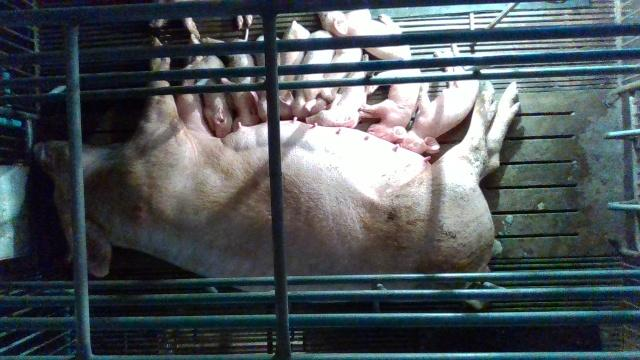piglet: (393, 43, 479, 155), (305, 52, 370, 129), (318, 8, 412, 61), (280, 30, 334, 121), (359, 68, 422, 142), (191, 35, 233, 138), (148, 1, 254, 39), (275, 20, 310, 118), (221, 38, 258, 130)
sow-sleep-lactate: (33, 35, 521, 305)
